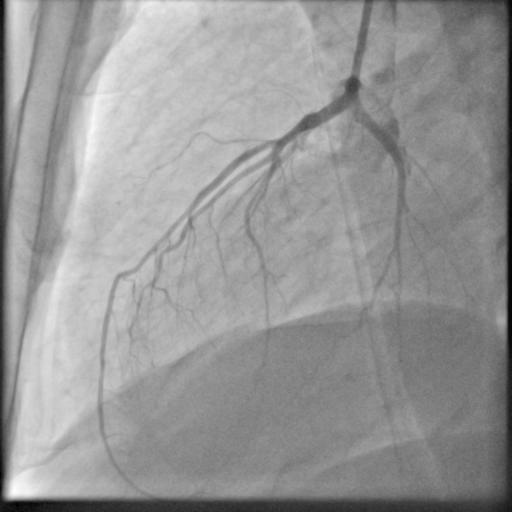Stenosis: (273, 123, 301, 142)
